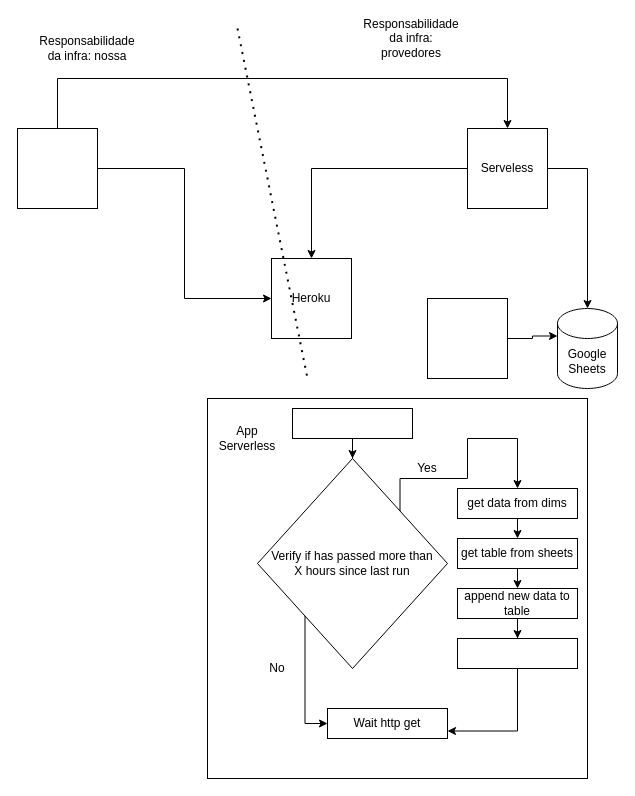
Image size: 635x796. Some labels were removed from this diagram. The centre of each missing label's shape, as x and y in pixels:
"Container hardware" belongs at [57,168].
"Google Data Studio" belongs at [467,338].
"Received http get" belongs at [352,423].
"save new table to google sheets" belongs at [517,653].
